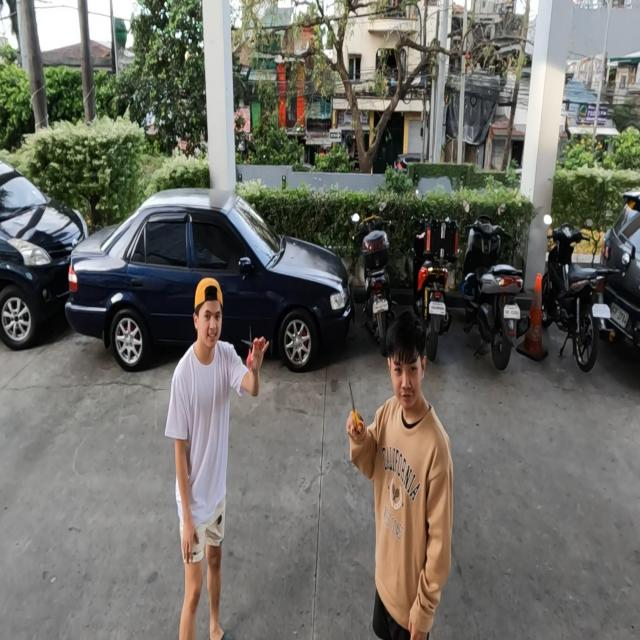scissor: (240, 326, 265, 372), (348, 380, 365, 438)
